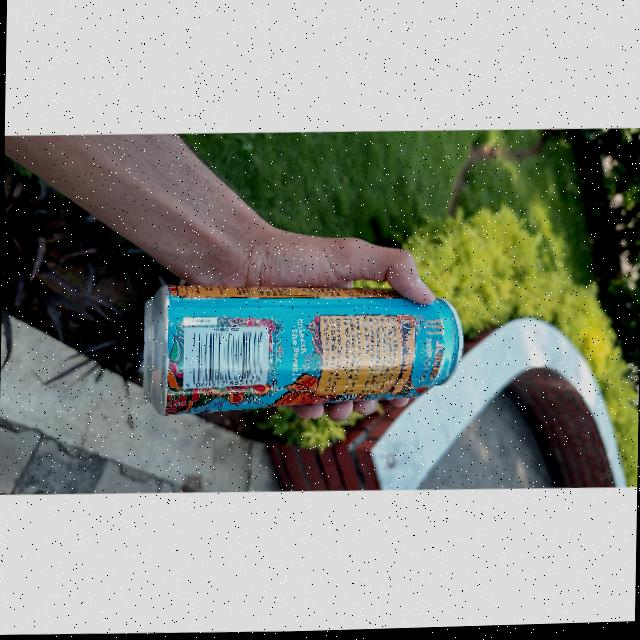Monster Mango Loco: (137, 271, 462, 416)
